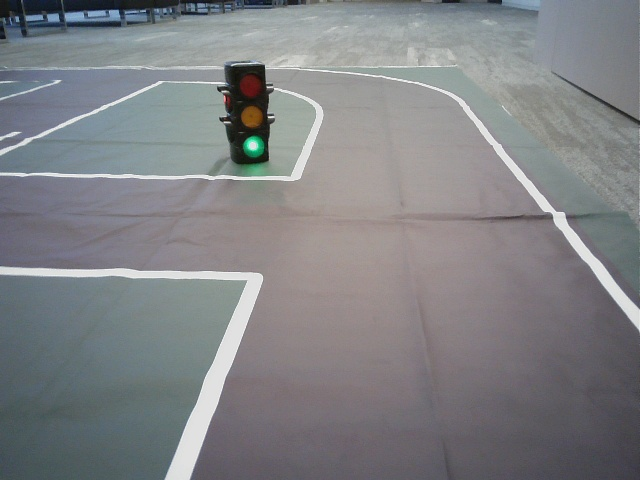green: (232, 66, 270, 161)
